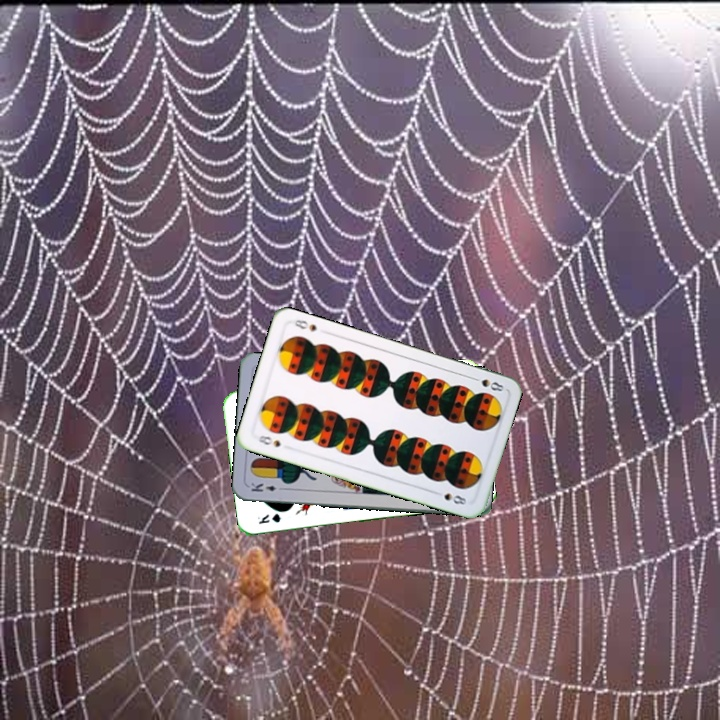EK: (247, 479, 287, 494)
GK: (255, 509, 283, 526)
S8: (467, 373, 506, 394), (254, 431, 283, 450)
